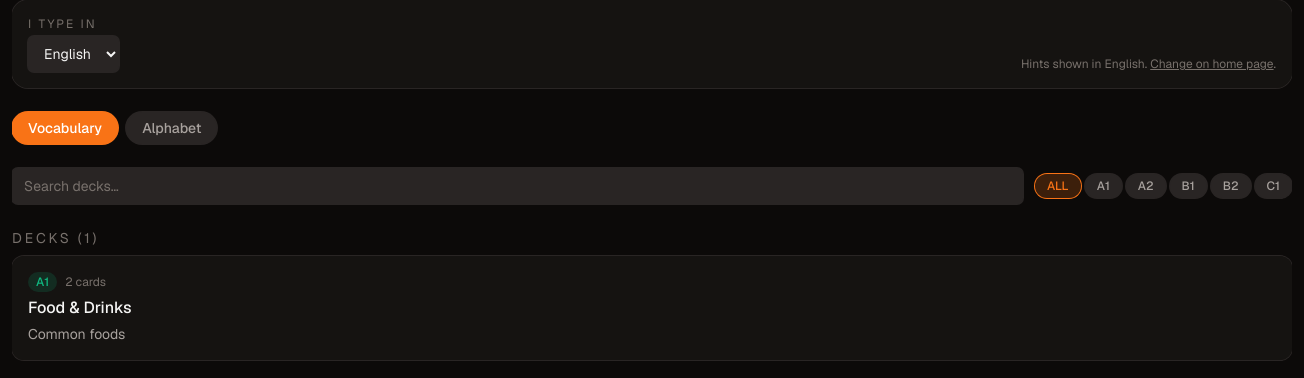
Scenario: VocabLanding — Vocabulary / Alphabet tab › when no alphabet decks exist, Alphabet tab still renders but shows empty state
Click the tab "Alphabet" at (172, 128), box [126, 112, 217, 144]
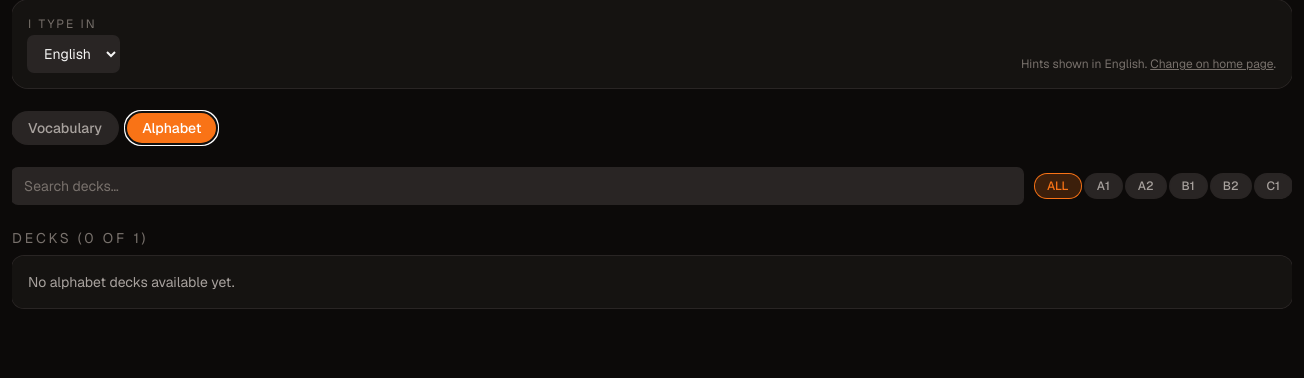
Result: the link "Food & Drinks" is gone
Result: the message "No alphabet decks available yet." is shown at [12, 256, 1292, 308]
